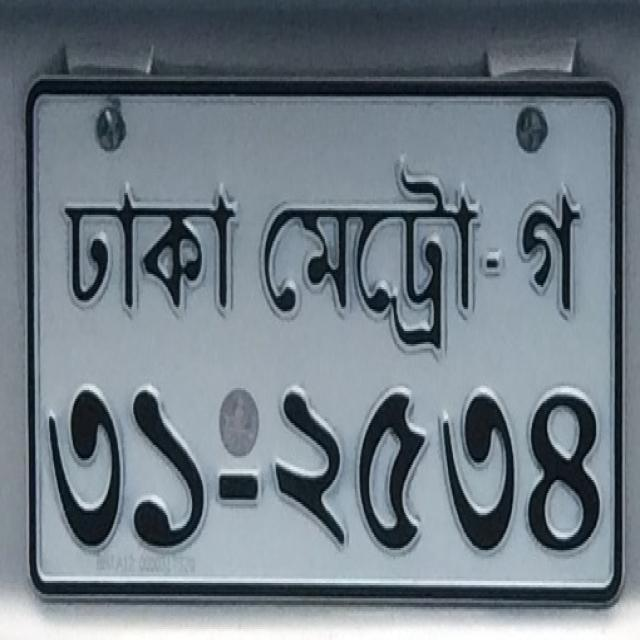numberplate: (23, 70, 626, 607)
